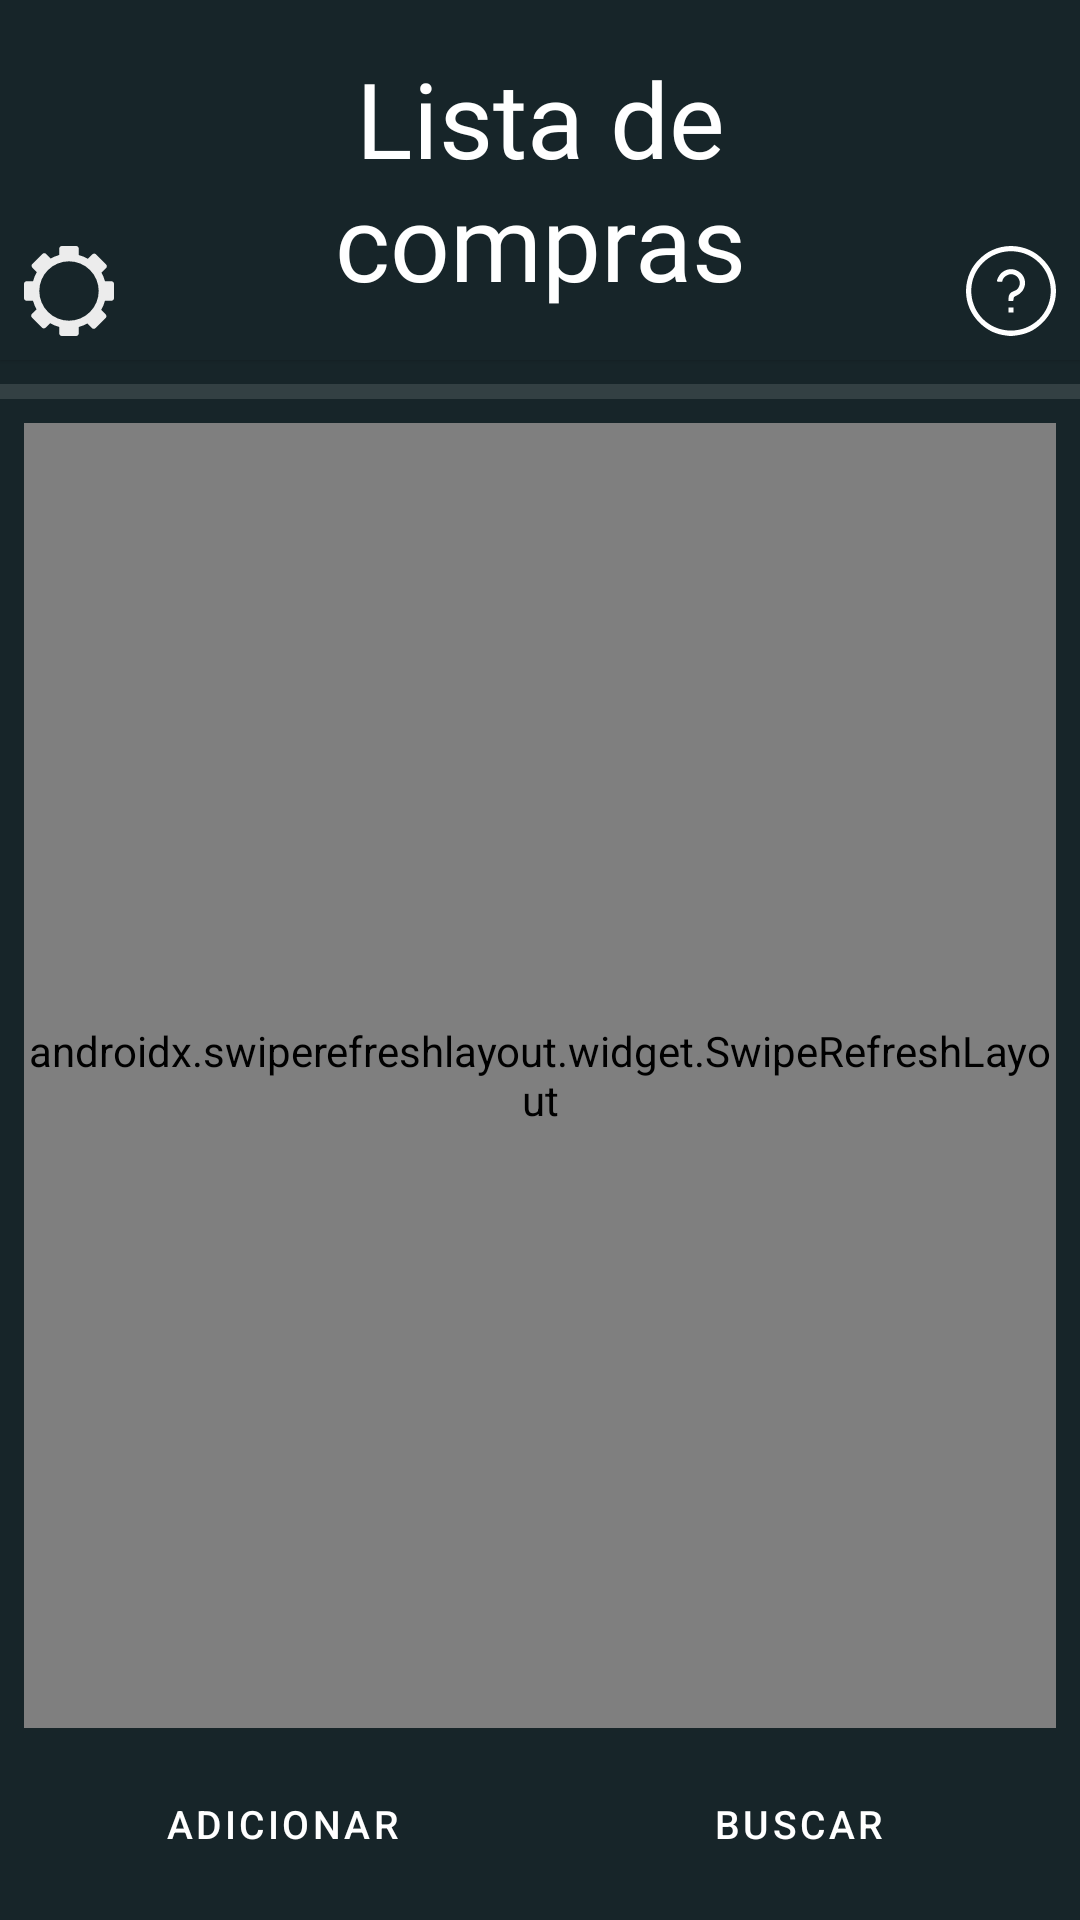

Icons on this 1080 × 1920 Android screen, each with the point to tap as (x,y):
help: (1011,291)
